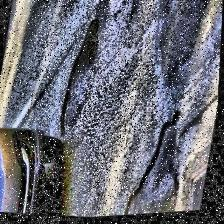pothole: (124, 108, 196, 216), (56, 18, 104, 142)
